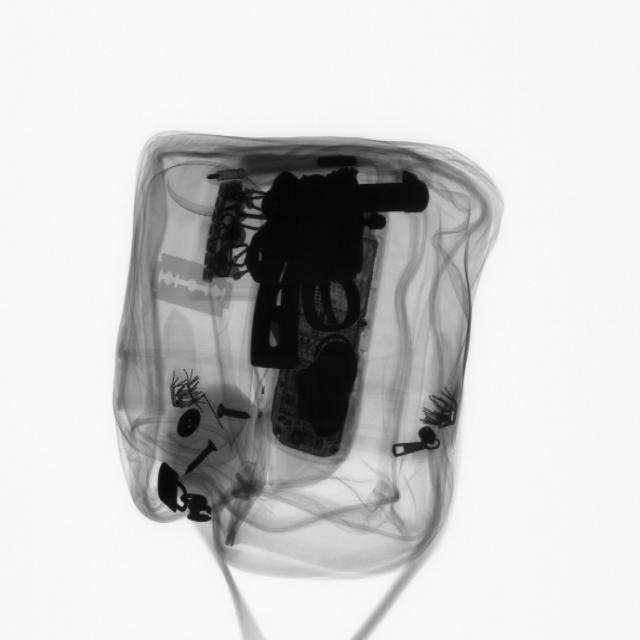BLADE: (142, 249, 238, 326)
GUN: (243, 165, 430, 384)
SCREW: (182, 434, 224, 485), (212, 400, 260, 430)
